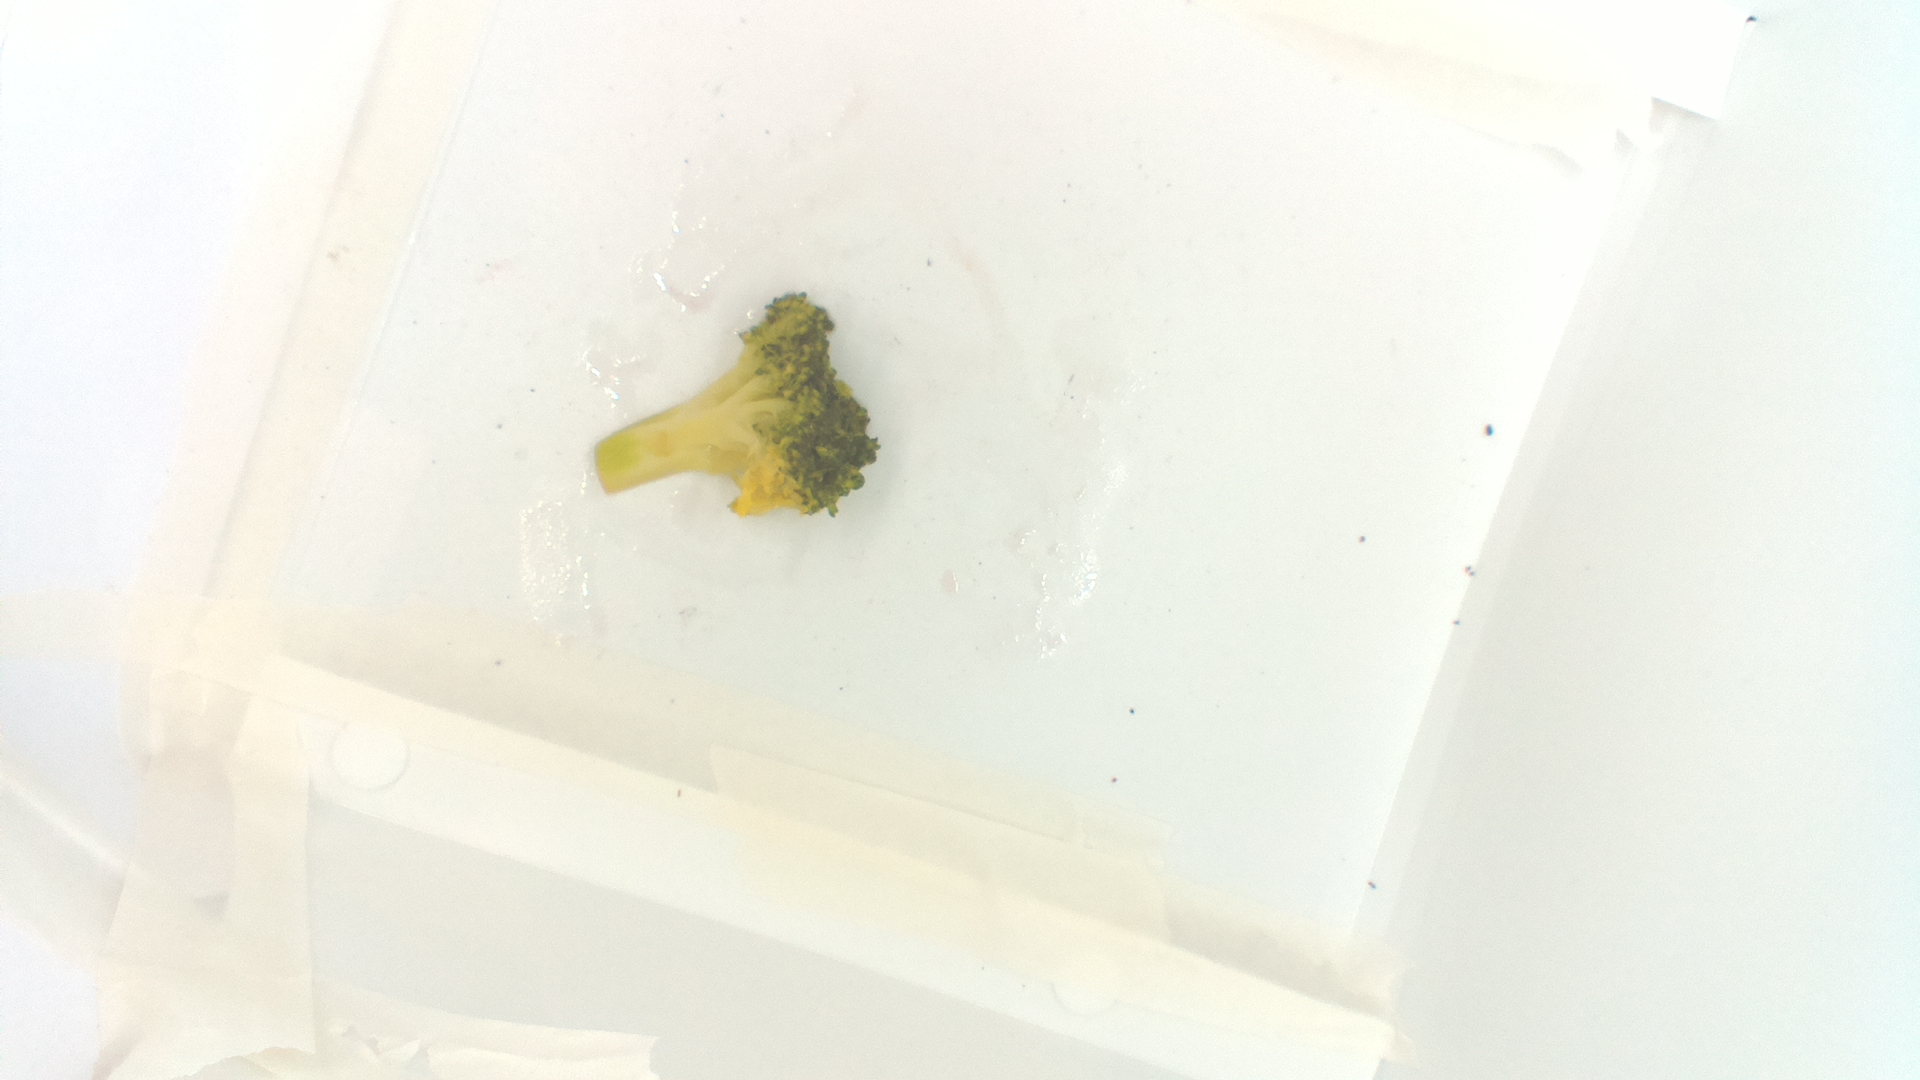vegetable: (588, 294, 886, 524)
